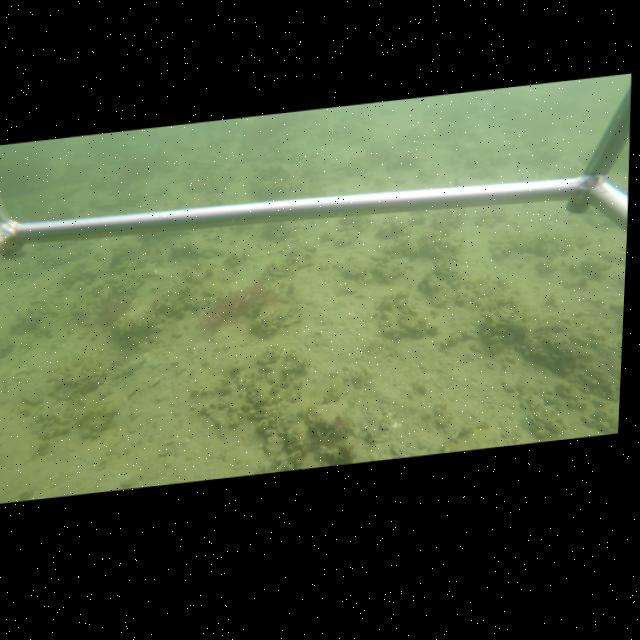Oyster-Open: (260, 262, 295, 282)
